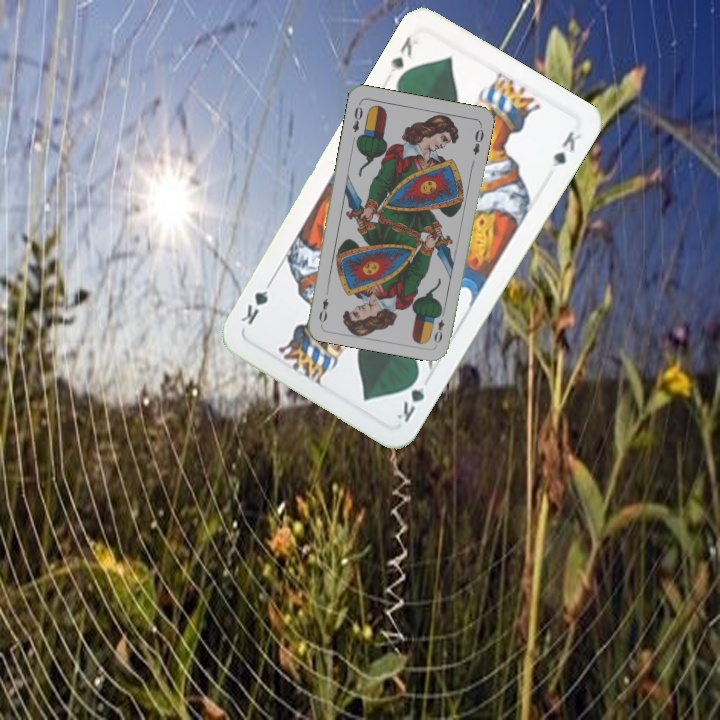EO: (430, 306, 447, 345), (348, 99, 365, 135)
GK: (392, 369, 427, 425), (386, 31, 423, 77)
